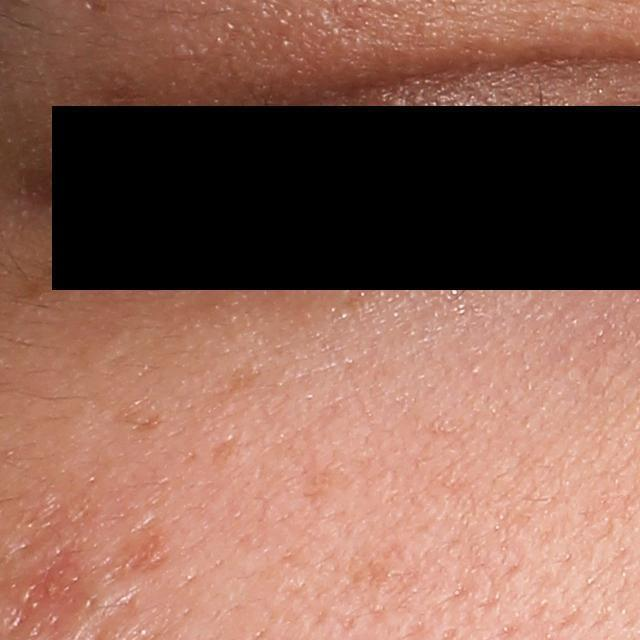melasma: (18, 243, 109, 304), (111, 523, 179, 587), (297, 456, 342, 508), (221, 355, 265, 404), (209, 431, 240, 475)
